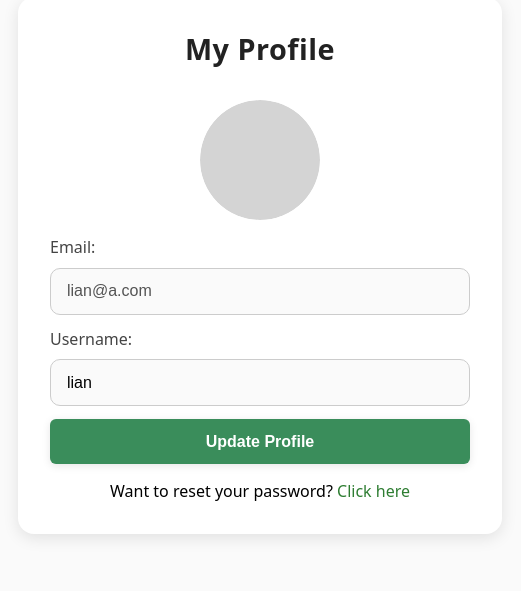
Test case: Profile page › shows message if no changes made
Click the button "Update Profile".
click(260, 442)  # box [50, 419, 470, 464]
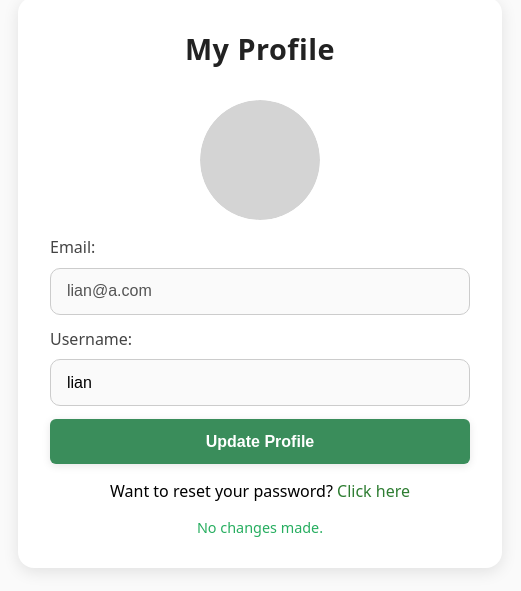
Expected: the text "No changes made." is shown, [197, 518, 323, 537]
